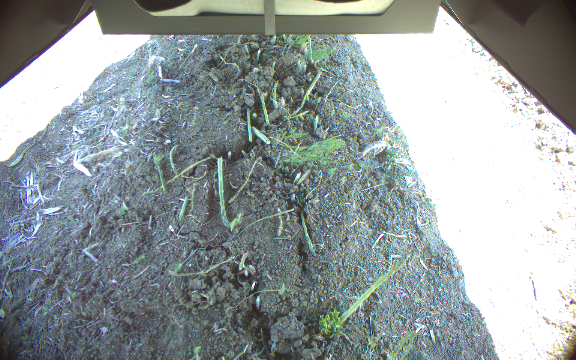aspa: (337, 258, 405, 326), (257, 92, 270, 126), (306, 35, 313, 63)
